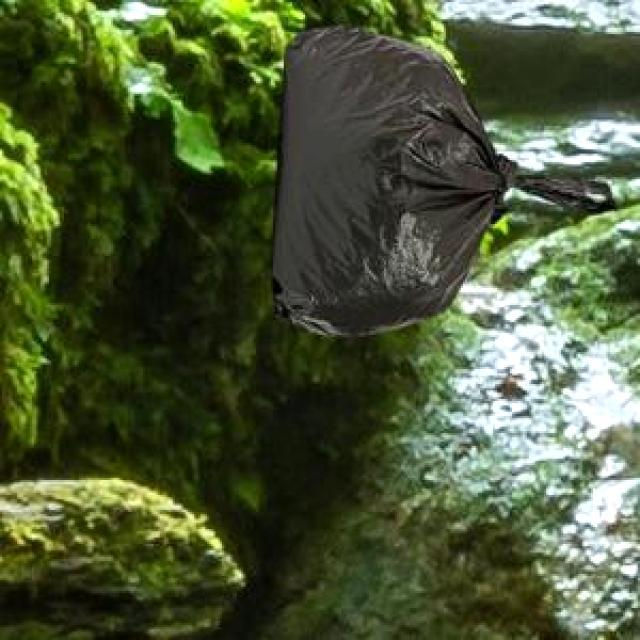Garbage_Bag: (270, 25, 614, 332)
